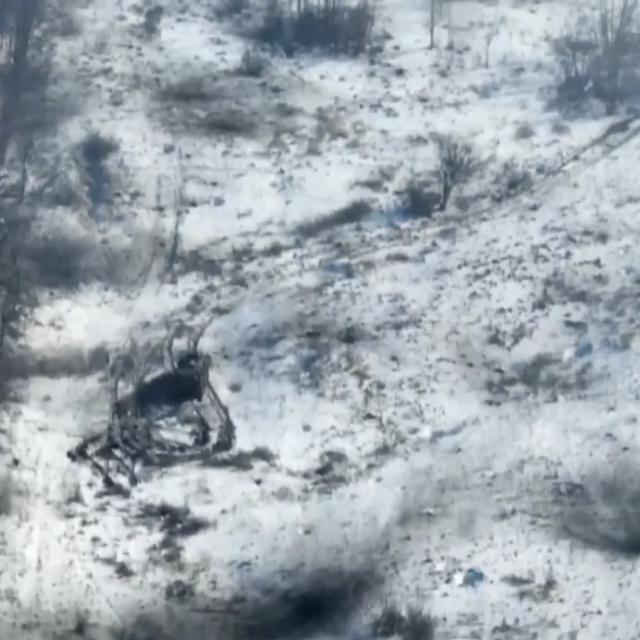vehicle: (177, 347, 211, 401)
